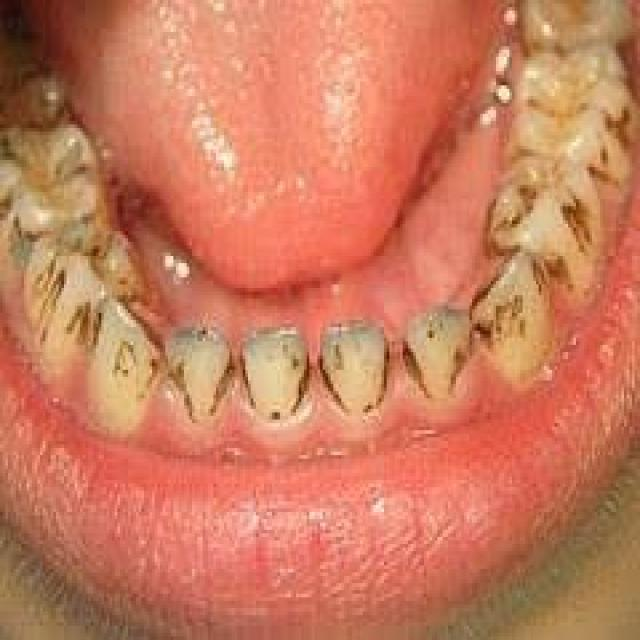Tooth Discoloration: (5, 83, 638, 425)
